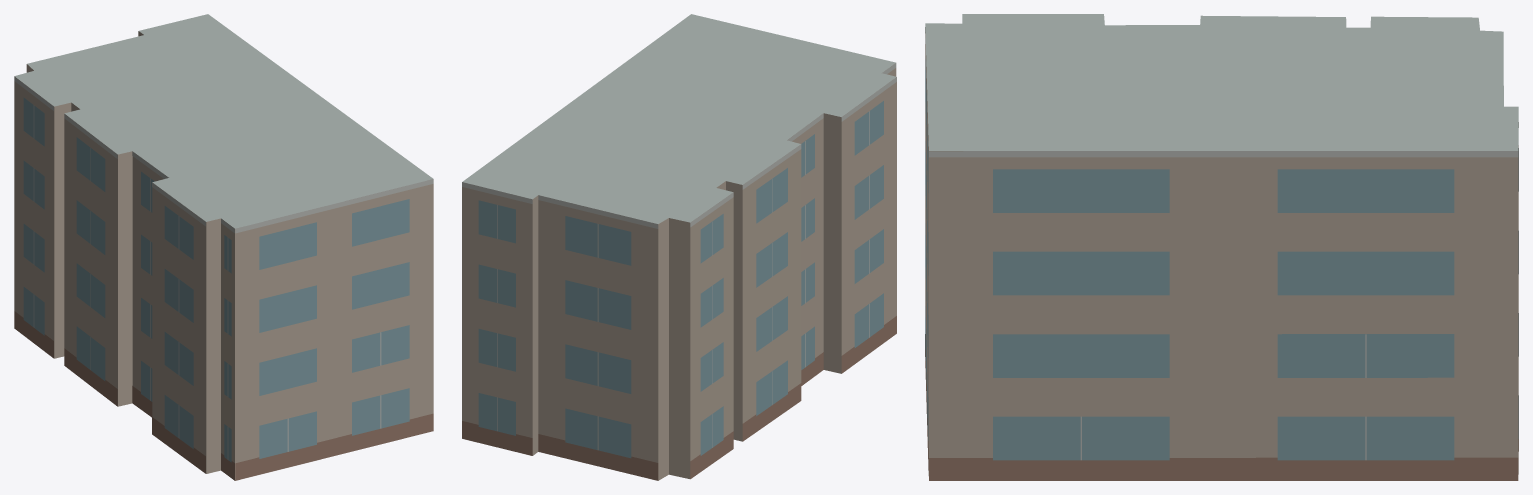
Rendered from survey-upis-32771294.glb.
3 renders of one model, left to right at view 1: azimuth 30°, elevation 25°; view 2: azimuth 150°, elevation 25°; view 3: azimuth 270°, elevation 25°, orthographic. The views are drawn at different scales.
Visible parts, largest first — view 1: survey-upis-32771294.tmp; view 2: survey-upis-32771294.tmp; view 3: survey-upis-32771294.tmp.
Part boxes in pixels (x1,y1,x2,y2): survey-upis-32771294.tmp: (14,14,433,480); survey-upis-32771294.tmp: (462,14,896,480); survey-upis-32771294.tmp: (925,14,1518,480).
Size of the model in its own units: 11.42 by 12.8 by 20.89.
